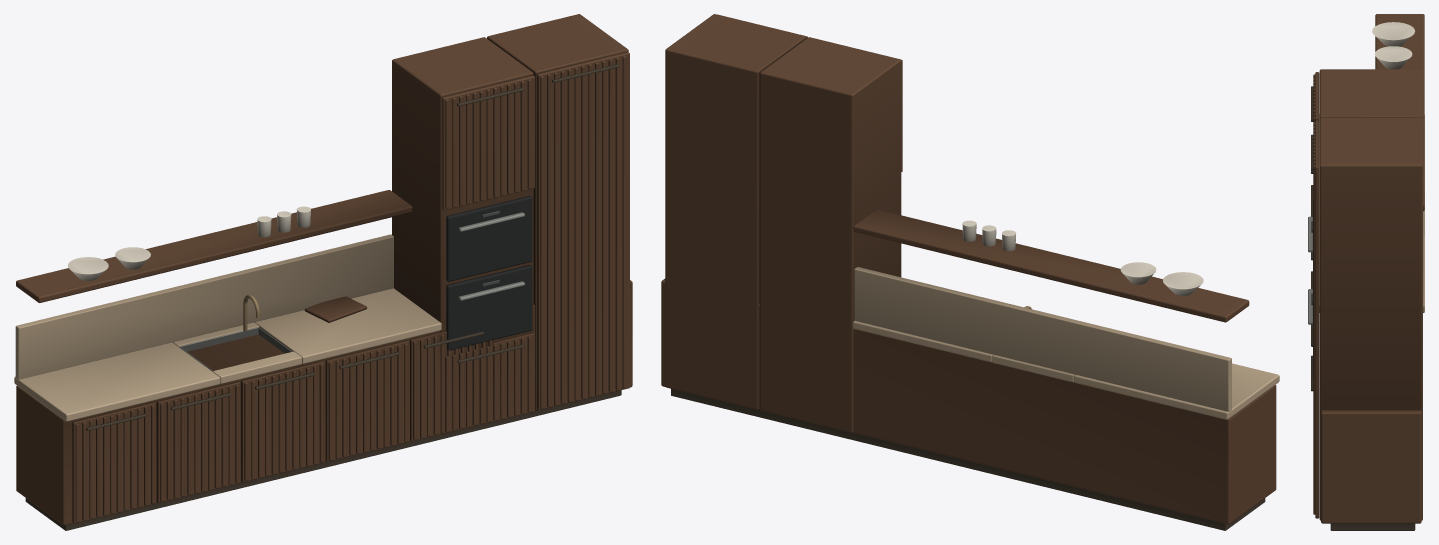
File: flute-wall.glb
3 renders of one model, left to right at view 1: azimuth 30°, elevation 25°; view 2: azimuth 150°, elevation 25°; view 3: azimuth 270°, elevation 25°, orthographic. The views are drawn at different scales.
Visible parts, largest first — view 1: flute-wall; view 2: flute-wall; view 3: flute-wall.
Boxes of the visible parts, <box> form: flute-wall: <box>14,14,632,530</box>; flute-wall: <box>661,14,1279,530</box>; flute-wall: <box>1308,14,1424,530</box>.
Size of the model in its own units: 4.32 by 2.54 by 0.7319.
